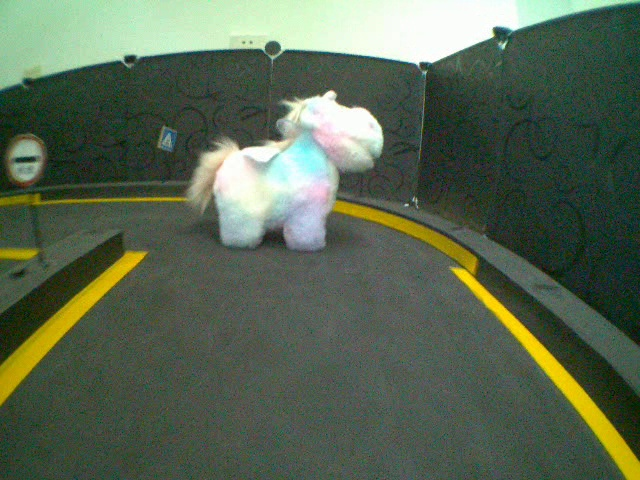unicorn: (185, 88, 383, 253)
